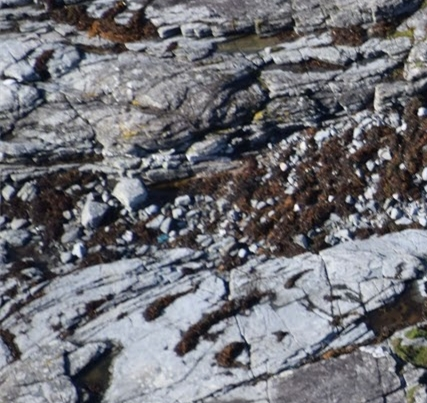white_in_green: (140, 218, 182, 256)
